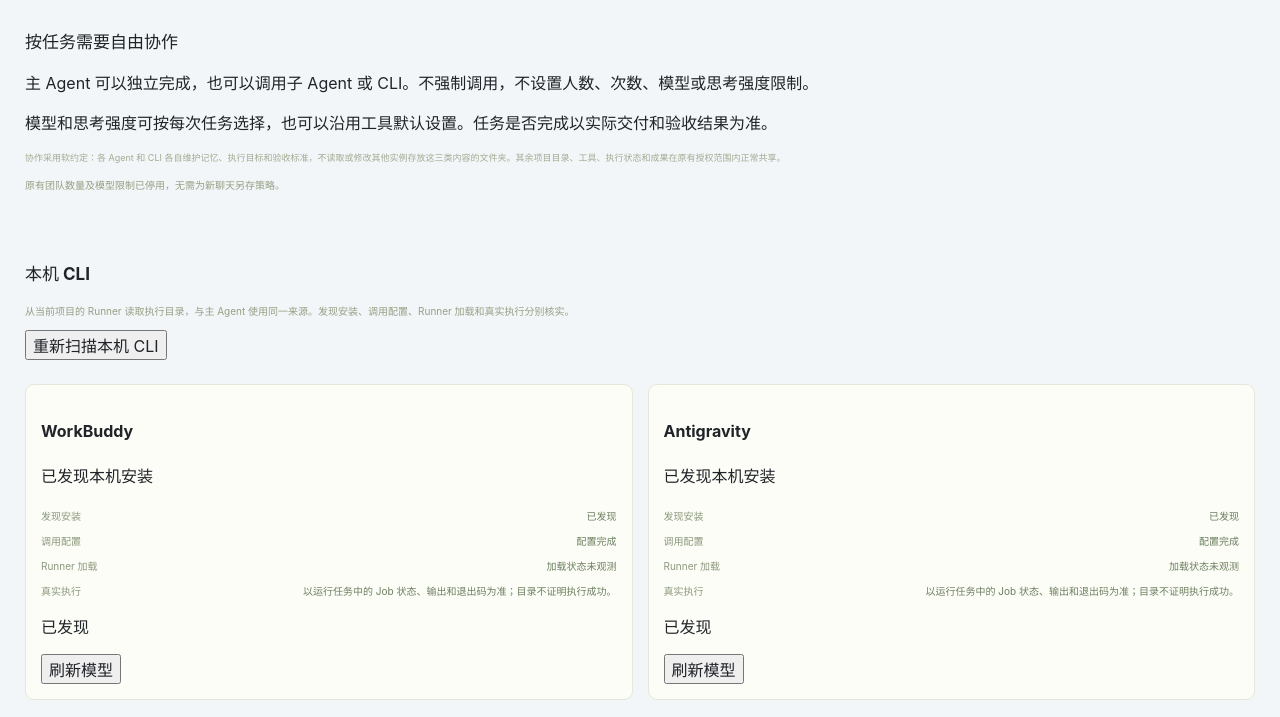
Test: optional collaboration › shows discovered capability without claiming account or execution readiness
Click the button with aria-label "刷新 WorkBuddy 模型列表" at (81, 669), box [41,654,121,684]
(page scrolled)
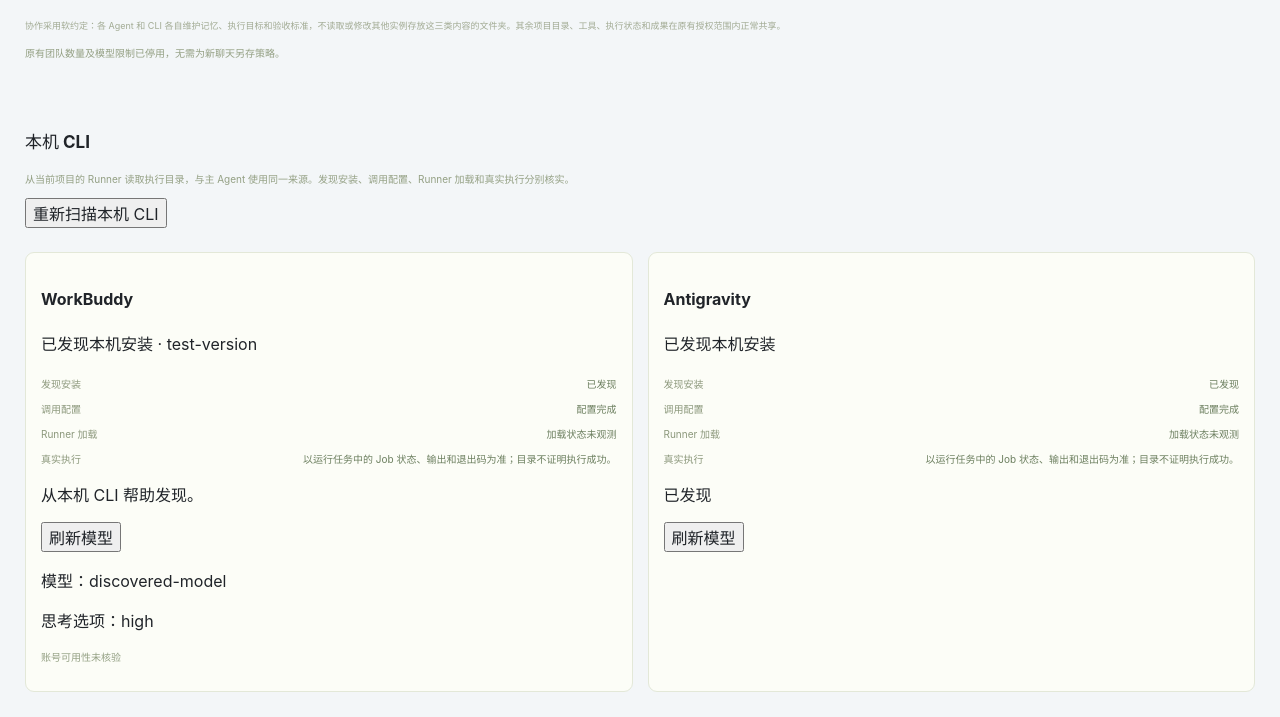
Check: the text "模型：discovered-model" is shown, box [41,571,226,591]
Check: the text "思考选项：high" is shown, box [41,611,154,631]
Check: the text "账号可用性未核验" is shown, box [41,651,121,663]
